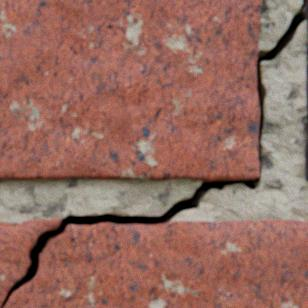brick: (0, 0, 260, 180), (304, 0, 307, 181)
broken_brick: (3, 220, 307, 307), (0, 218, 60, 307)
crack: (2, 0, 305, 307)
